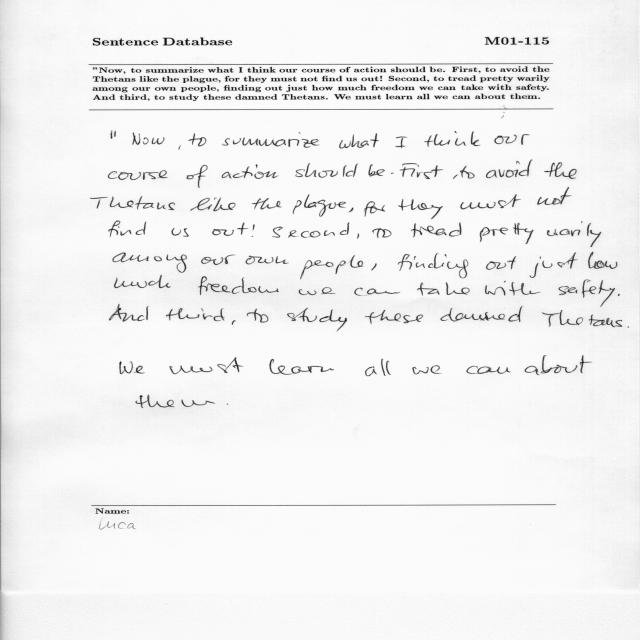word: (398, 253, 468, 278), (113, 252, 187, 273), (222, 132, 319, 148), (198, 276, 279, 295), (558, 280, 615, 307), (300, 255, 363, 279), (547, 221, 601, 247), (287, 308, 347, 331), (542, 310, 622, 327), (525, 355, 592, 375), (440, 306, 523, 322), (529, 252, 578, 278), (170, 357, 244, 374), (272, 222, 350, 238), (293, 194, 346, 217), (91, 196, 175, 210), (480, 223, 534, 244), (270, 359, 335, 375), (136, 395, 215, 408), (295, 163, 358, 178), (460, 195, 521, 210), (424, 131, 481, 147), (398, 199, 443, 219), (222, 164, 278, 179), (485, 281, 541, 296), (486, 160, 532, 178), (365, 310, 423, 324), (166, 308, 224, 321), (411, 223, 461, 238), (417, 282, 470, 296), (114, 275, 171, 288), (110, 304, 149, 322), (400, 163, 443, 179), (339, 133, 379, 149), (191, 198, 236, 212), (538, 187, 572, 205), (109, 221, 146, 237), (109, 170, 168, 180), (544, 162, 577, 179), (213, 222, 249, 236), (588, 252, 617, 269), (187, 165, 208, 188), (365, 359, 391, 376), (132, 132, 165, 145), (486, 256, 516, 270), (494, 134, 530, 145), (201, 254, 235, 265), (354, 288, 400, 296), (245, 256, 289, 264), (467, 366, 511, 374), (364, 201, 385, 217), (252, 198, 282, 209), (120, 361, 145, 374), (247, 309, 268, 323), (299, 287, 335, 295), (412, 366, 442, 375), (188, 134, 206, 147), (368, 164, 385, 177), (372, 228, 392, 238), (460, 166, 475, 178), (171, 228, 189, 237), (396, 137, 407, 149), (371, 264, 377, 271), (111, 131, 116, 139), (252, 224, 255, 237), (453, 175, 459, 180), (232, 320, 236, 325), (349, 208, 353, 212), (178, 145, 181, 150), (357, 234, 359, 239), (618, 294, 620, 296), (627, 326, 629, 328), (391, 173, 394, 174), (227, 404, 228, 405)
